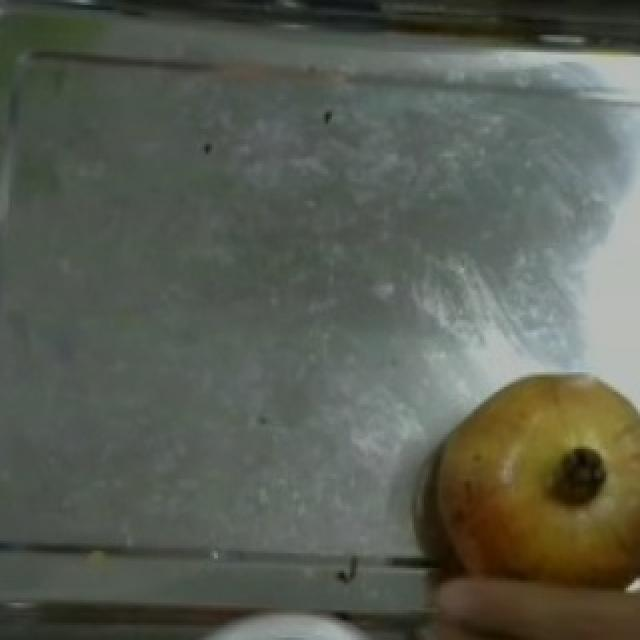fruit: (406, 345, 640, 605)
